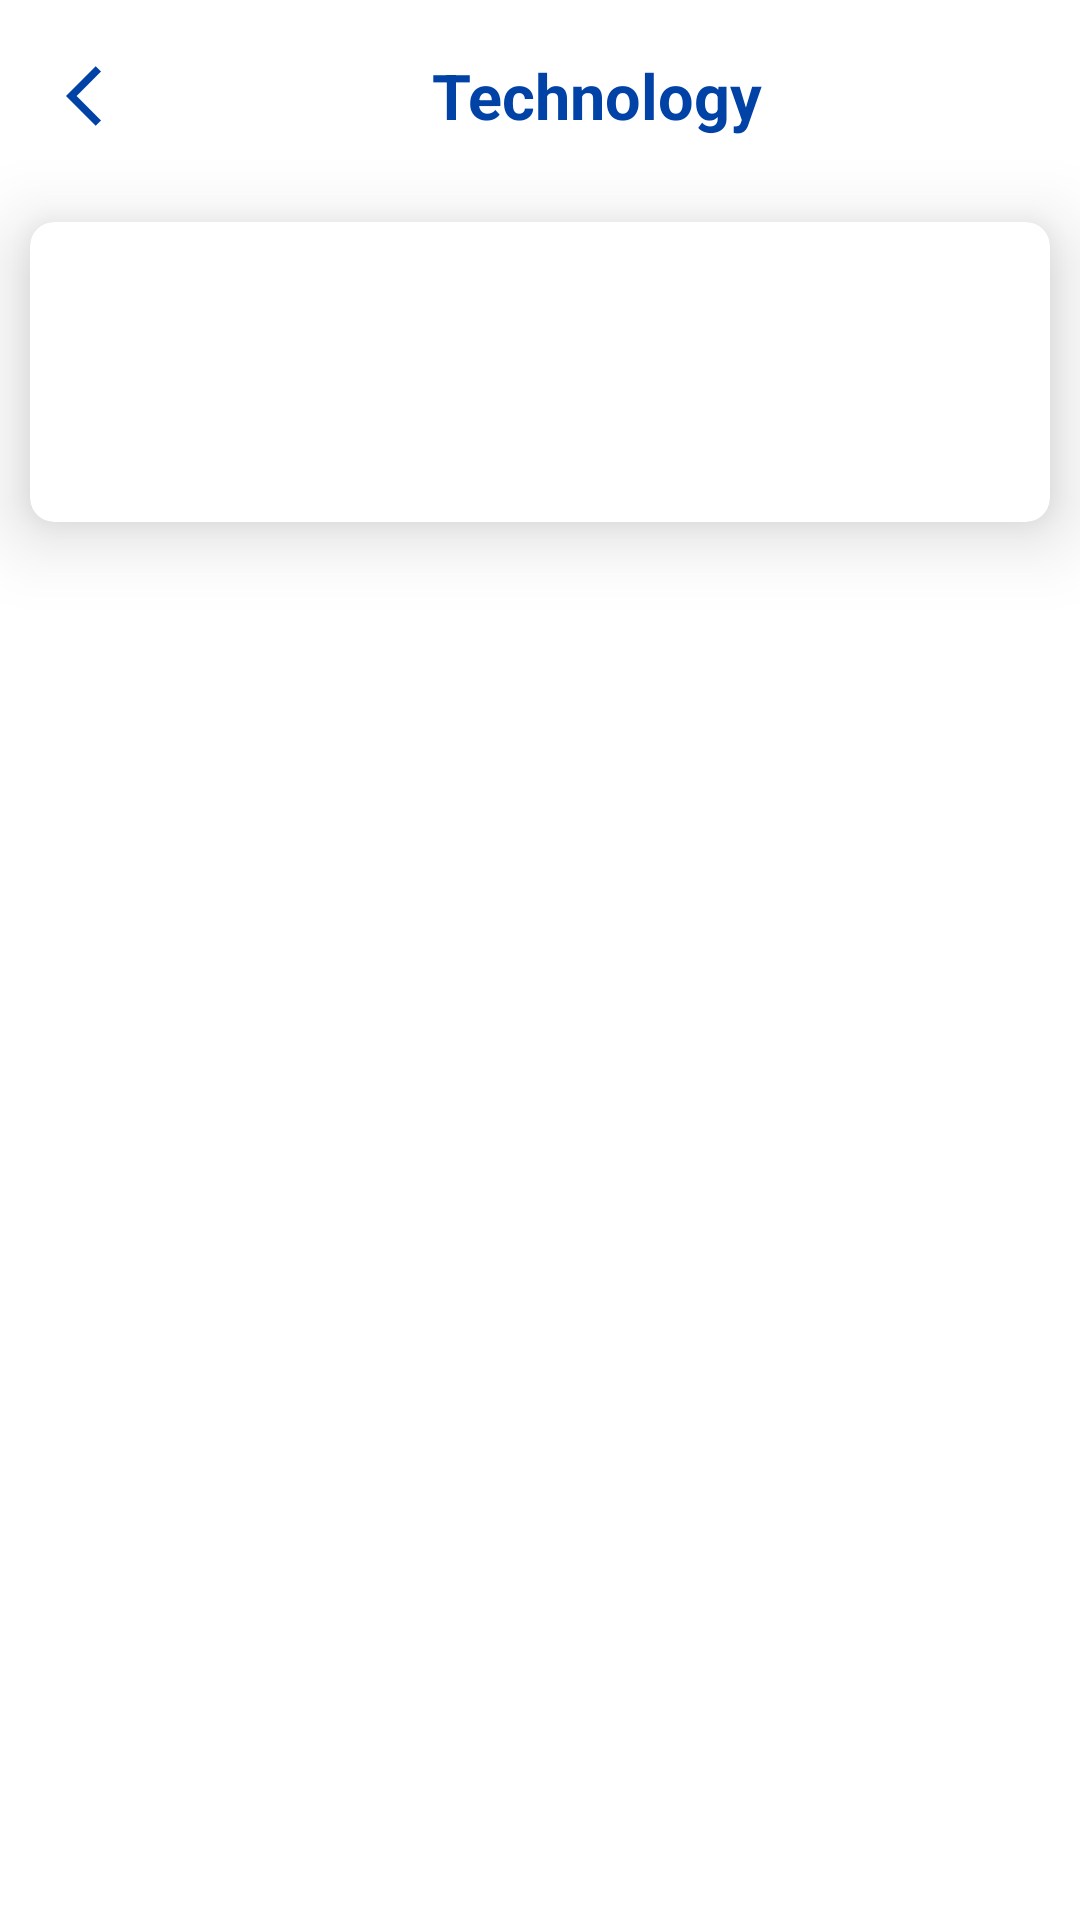

Screen size 1080px x 1920px. Icon name, then its center in pixels as (x=x, y=y):
back: (x=83, y=96)
